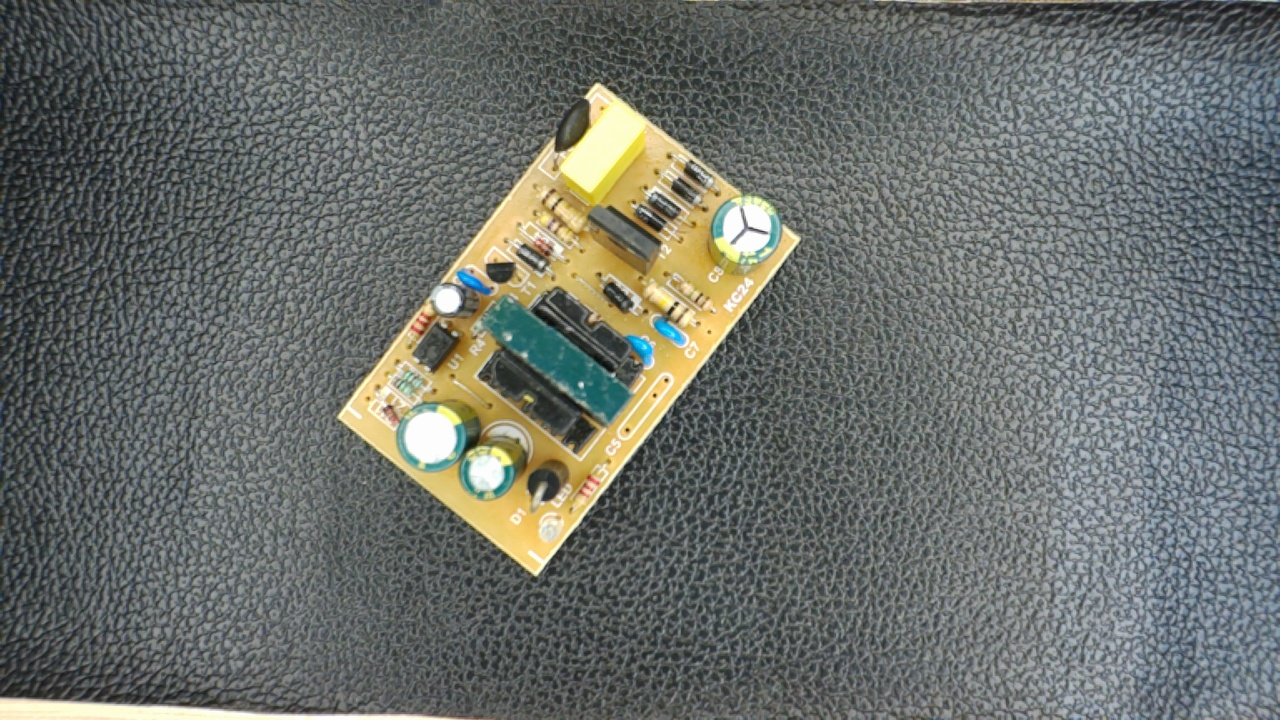fuse: (546, 99, 597, 174)
hv_capacitor: (707, 188, 785, 278)
optocoupler: (408, 323, 467, 374)
